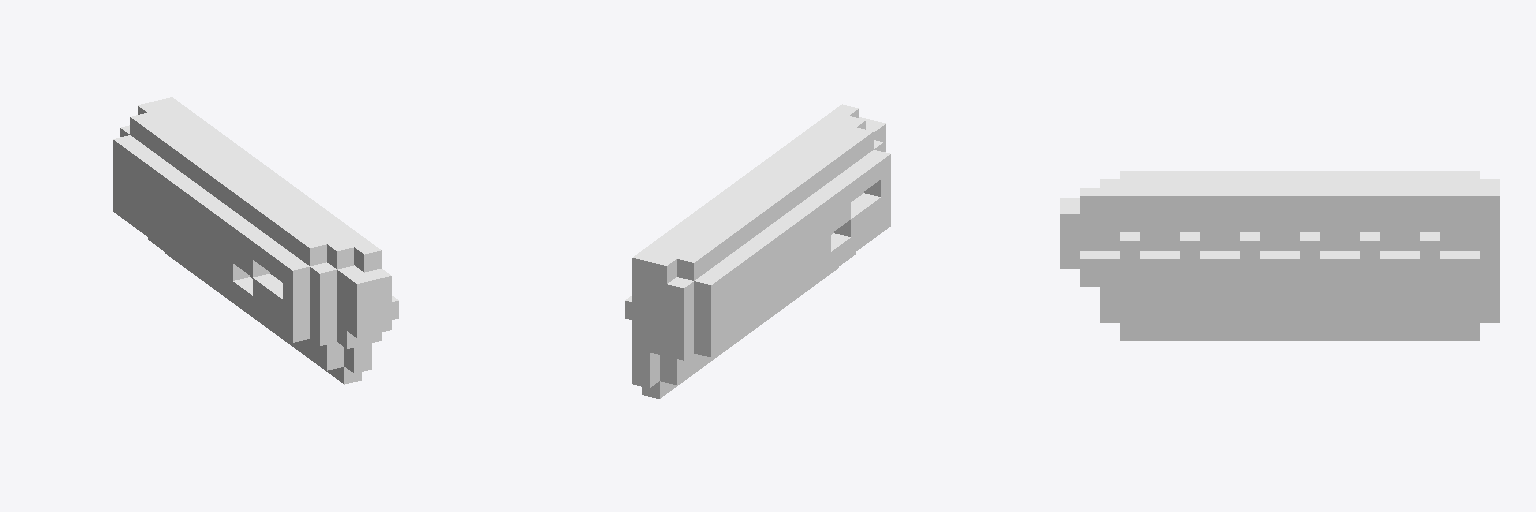
File: Extra-10-Warship_Laser_R.obj
3 renders of one model, left to right at view 1: azimuth 30°, elevation 25°; view 2: azimuth 150°, elevation 25°; view 3: azimuth 270°, elevation 25°, orthographic.
Visible parts, largest first — view 1: Warship_Laser_R; view 2: Warship_Laser_R; view 3: Warship_Laser_R.
Part boxes in pixels (bbox=[...]): Warship_Laser_R: bbox=[113, 97, 398, 384]; Warship_Laser_R: bbox=[625, 104, 890, 398]; Warship_Laser_R: bbox=[1060, 171, 1499, 340].
Bounding box in the file's own units: 0.5 × 0.8 × 2.2.